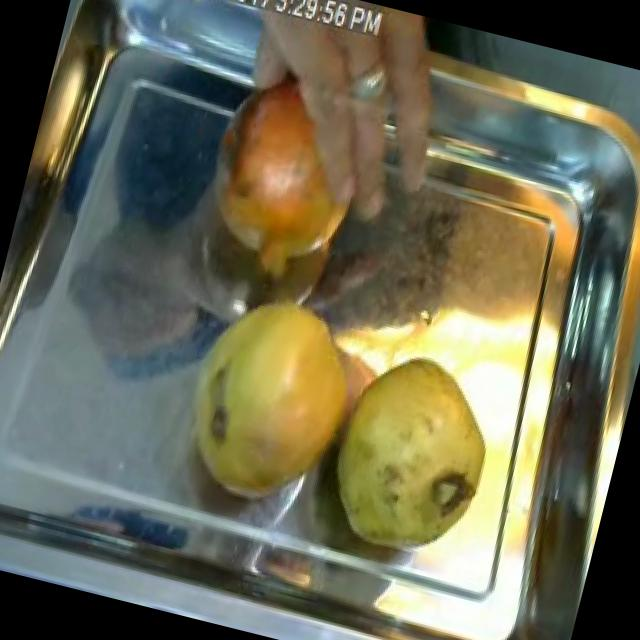fruit: (146, 261, 382, 538), (306, 322, 522, 582), (175, 46, 396, 298)
